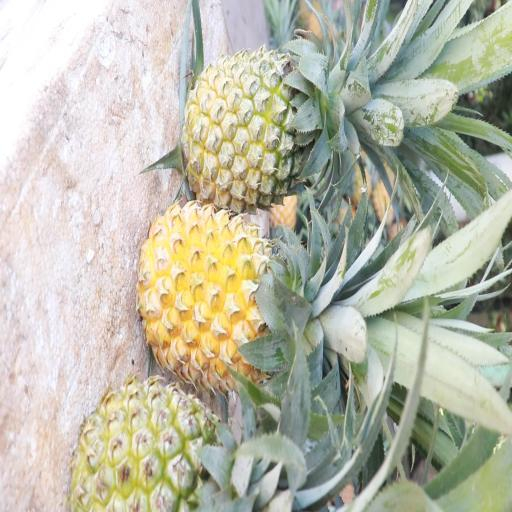------------------------------: (73, 379, 257, 512), (182, 50, 342, 202)
Pineapple - v8 v1: (140, 208, 327, 388)
